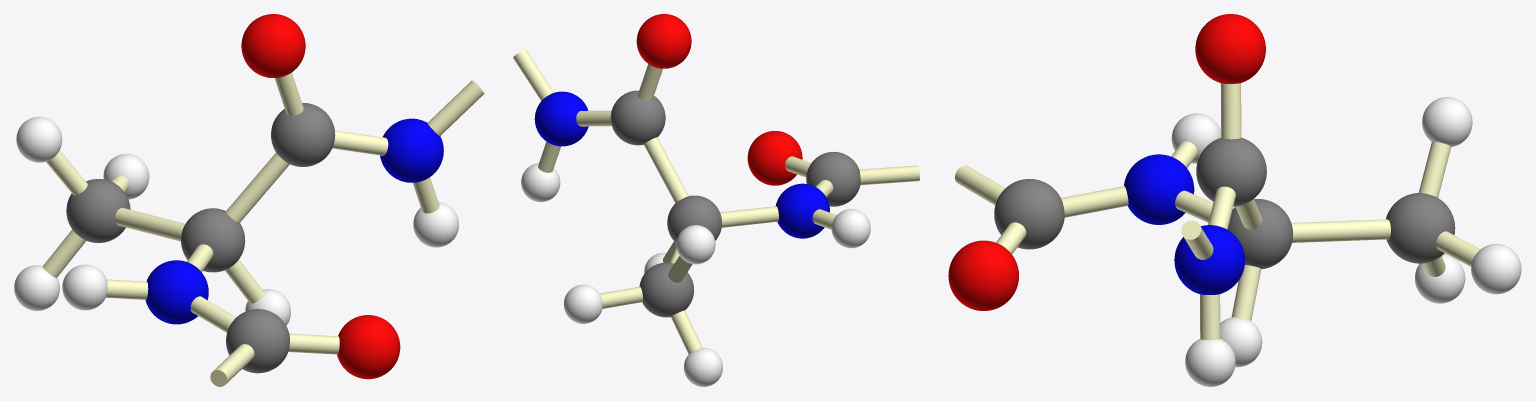
Rendered from conformation.gltf.
The picture shows the model from 3 angles, left to right: view 1: azimuth 30°, elevation 25°; view 2: azimuth 150°, elevation 25°; view 3: azimuth 270°, elevation 25°; orthographic projection. The views are drawn at different scales.
Parts seen in each view (by area): view 1: ?????????6, ?????????2, ?????????13, ?????????5, ?????????3, ?????????9, ?????????1, ?????????4, ?????????12, ?????????7, ?????????10, ?????????14 (+16 smaller); view 2: ?????????6, ?????????5, ?????????13, ?????????2, ?????????3, ?????????9, ?????????1, ?????????4, ?????????12, ?????????7, ?????????11, ?????????10 (+12 smaller); view 3: ?????????2, ?????????6, ?????????3, ?????????9, ?????????5, ?????????1, ?????????13, ?????????4, ?????????11, ?????????22, ?????????14, ?????????12 (+15 smaller).
Part boxes in pixels (x1=…): ?????????6: x1=241, y1=14, x2=305, y2=77; ?????????2: x1=337, y1=315, x2=400, y2=379; ?????????13: x1=380, y1=118, x2=443, y2=182; ?????????5: x1=271, y1=103, x2=335, y2=166; ?????????3: x1=145, y1=260, x2=208, y2=324; ?????????9: x1=66, y1=179, x2=130, y2=242; ?????????1: x1=226, y1=309, x2=289, y2=373; ?????????4: x1=181, y1=208, x2=245, y2=272; ?????????12: x1=16, y1=116, x2=62, y2=162; ?????????7: x1=62, y1=264, x2=107, y2=310; ?????????10: x1=14, y1=265, x2=59, y2=310; ?????????14: x1=413, y1=201, x2=458, y2=247; ?????????6: x1=636, y1=14, x2=691, y2=68; ?????????5: x1=610, y1=90, x2=665, y2=145; ?????????13: x1=534, y1=91, x2=588, y2=146; ?????????2: x1=747, y1=131, x2=802, y2=185; ?????????3: x1=775, y1=183, x2=829, y2=238; ?????????9: x1=639, y1=262, x2=693, y2=317; ?????????1: x1=806, y1=151, x2=860, y2=206; ?????????4: x1=667, y1=195, x2=721, y2=242; ?????????12: x1=676, y1=225, x2=715, y2=264; ?????????7: x1=831, y1=209, x2=870, y2=248; ?????????11: x1=563, y1=284, x2=602, y2=323; ?????????10: x1=684, y1=348, x2=722, y2=386; ?????????2: x1=948, y1=240, x2=1018, y2=310; ?????????6: x1=1195, y1=14, x2=1265, y2=83; ?????????3: x1=1124, y1=154, x2=1194, y2=224; ?????????9: x1=1386, y1=193, x2=1455, y2=263; ?????????5: x1=1196, y1=137, x2=1266, y2=206; ?????????1: x1=994, y1=179, x2=1064, y2=249; ?????????13: x1=1174, y1=225, x2=1244, y2=294; ?????????4: x1=1227, y1=199, x2=1292, y2=269; ?????????11: x1=1471, y1=244, x2=1521, y2=294; ?????????22: x1=1291, y1=219, x2=1390, y2=242; ?????????14: x1=1185, y1=338, x2=1235, y2=386; ?????????12: x1=1422, y1=97, x2=1472, y2=146.
Bounding box in the file's own units: 52.3 × 39.3 × 56.76.
